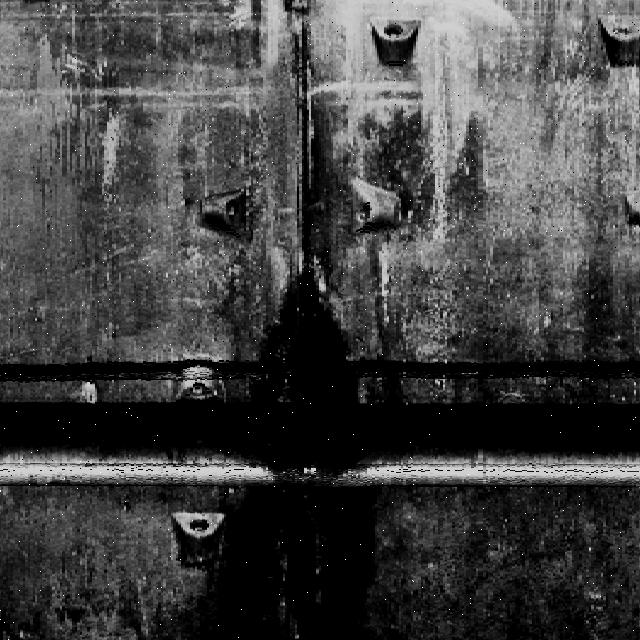leakage: (212, 256, 381, 638)
